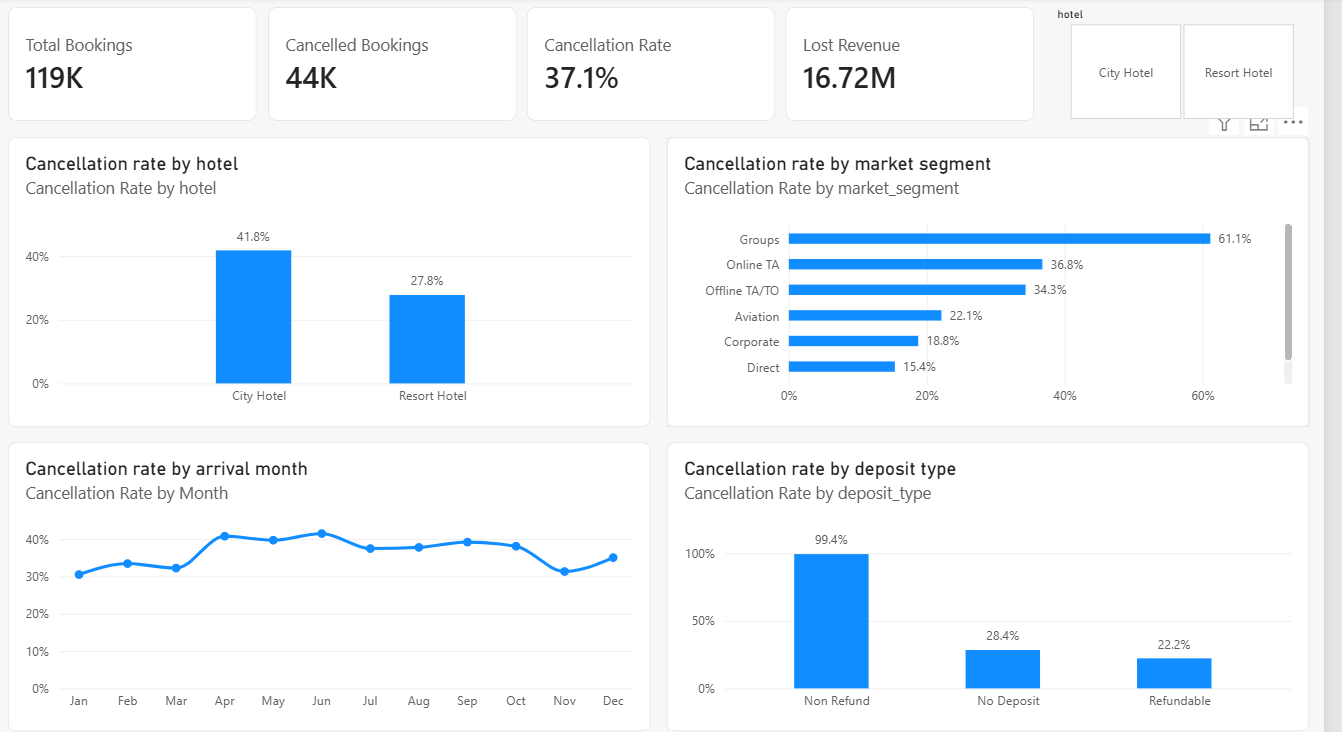

The page's visual inventory and layout, read from the dashboard file:
{"tool":"powerbi","page":{"name":"Overview","canvas":[1280,720],"ordinal":0},"visuals":[{"type":"cardVisual","fields":{"Data":["hotel_bookings_clean.Total Bookings"]},"box":[10,10,240,110],"z":0},{"type":"cardVisual","fields":{"Data":["hotel_bookings_clean.Cancelled Bookings"]},"box":[260,10,240,110],"z":1000},{"type":"cardVisual","fields":{"Data":["hotel_bookings_clean.Cancellation Rate"]},"box":[510,10,240,110],"z":2000},{"type":"cardVisual","fields":{"Data":["hotel_bookings_clean.Lost Revenue"]},"box":[760,10,240,110],"z":3000},{"type":"clusteredColumnChart","title":"Cancellation rate by hotel","fields":{"Category":["hotel_bookings_clean.hotel"],"Y":["hotel_bookings_clean.Cancellation Rate"]},"box":[10,135,620,280],"z":4000},{"type":"clusteredBarChart","title":"Cancellation rate by market segment","fields":{"Category":["hotel_bookings_clean.market_segment"],"Y":["hotel_bookings_clean.Cancellation Rate"]},"box":[645,135,621,280],"z":5000},{"type":"slicer","fields":{"Values":["hotel_bookings_clean.hotel"]},"box":[1015,10,255,110],"z":6000},{"type":"lineChart","title":"Cancellation rate by arrival month","fields":{"Category":["hotel_bookings_clean.Month"],"Y":["hotel_bookings_clean.Cancellation Rate"]},"box":[10,430,620,280],"z":7000},{"type":"clusteredColumnChart","title":"Cancellation rate by deposit type","fields":{"Category":["hotel_bookings_clean.deposit_type"],"Y":["hotel_bookings_clean.Cancellation Rate"]},"box":[645,430,620,280],"z":8000}]}

Visuals, with their boxes on the page's 1280x720 design canvas (x1, y1, x2, y2). These are canvas units, not pixel positions in the 1342x732 screenshot, which may show the page scaled, cropped or inside an application window:
cardVisual - hotel_bookings_clean.Total Bookings: 10:10:250:120
cardVisual - hotel_bookings_clean.Cancelled Bookings: 260:10:500:120
cardVisual - hotel_bookings_clean.Cancellation Rate: 510:10:750:120
cardVisual - hotel_bookings_clean.Lost Revenue: 760:10:1000:120
"Cancellation rate by hotel" clusteredColumnChart: 10:135:630:415
"Cancellation rate by market segment" clusteredBarChart: 645:135:1266:415
slicer - hotel_bookings_clean.hotel: 1015:10:1270:120
"Cancellation rate by arrival month" lineChart: 10:430:630:710
"Cancellation rate by deposit type" clusteredColumnChart: 645:430:1265:710
